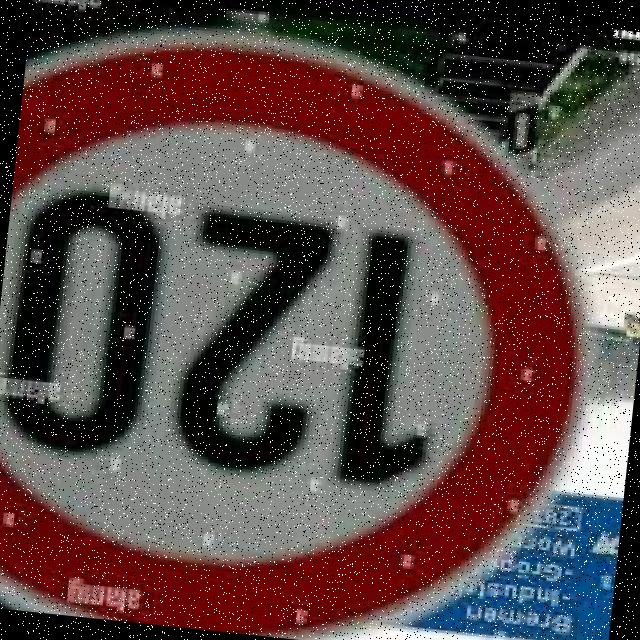speed_limit_120: (0, 12, 621, 640)
